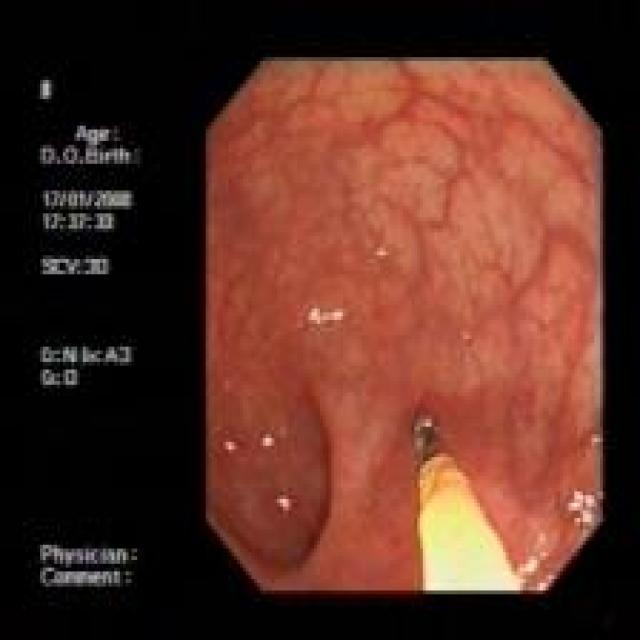color misalignment: (38, 80, 142, 588)
instrument: (402, 411, 522, 590)
saturation: (418, 490, 520, 594)
specularity: (562, 483, 602, 540), (306, 300, 344, 329), (516, 553, 539, 576), (277, 494, 291, 512), (225, 438, 237, 452)
